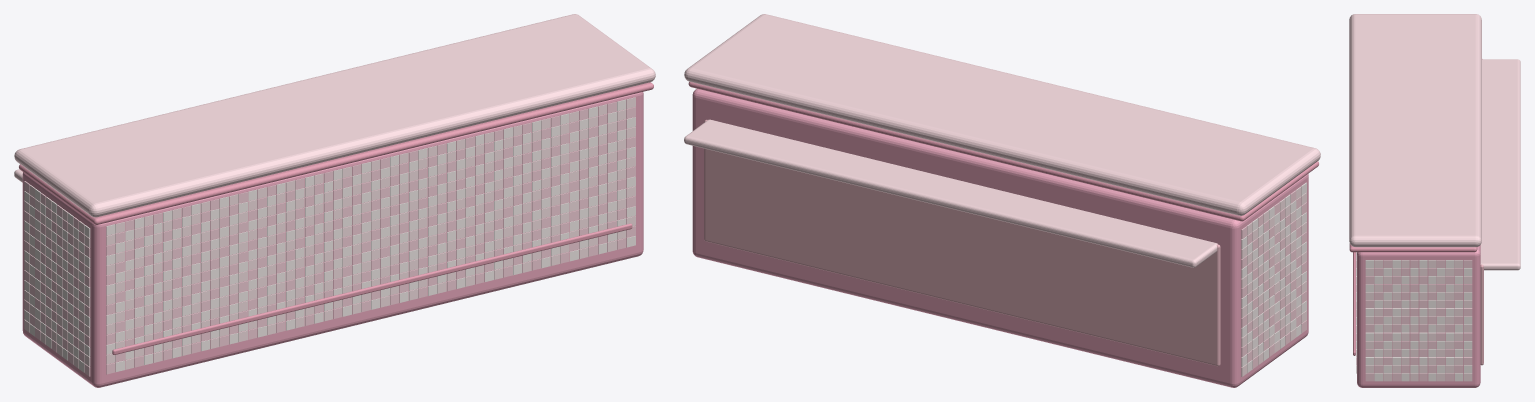
The model's file is bar_counter.glb.
The picture shows the model from 3 angles, left to right: view 1: azimuth 30°, elevation 25°; view 2: azimuth 150°, elevation 25°; view 3: azimuth 270°, elevation 25°; orthographic projection. The views are drawn at different scales.
Parts seen in each view (by area): view 1: PinkCounter_FrontTiles, PinkCounter_CounterTop, PinkCounter_Body, PinkCounter_LeftTiles, PinkCounter_TopEdge, PinkCounter_FrontStrip; view 2: PinkCounter_CounterTop, PinkCounter_RearInset, PinkCounter_Body, PinkCounter_RearWorkShelf, PinkCounter_LeftTiles, PinkCounter_TopEdge; view 3: PinkCounter_CounterTop, PinkCounter_RightTiles, PinkCounter_RearWorkShelf, PinkCounter_Body, PinkCounter_TopEdge, PinkCounter_RearInset, PinkCounter_FrontStrip.
Boxes of the visible parts, box(x1,y1,x2,y2) form: PinkCounter_FrontTiles: box(106, 97, 635, 374); PinkCounter_CounterTop: box(14, 14, 655, 217); PinkCounter_Body: box(22, 92, 643, 387); PinkCounter_LeftTiles: box(24, 181, 90, 376); PinkCounter_TopEdge: box(19, 82, 653, 224); PinkCounter_FrontStrip: box(112, 223, 632, 354); PinkCounter_CounterTop: box(684, 14, 1320, 215); PinkCounter_RearInset: box(704, 119, 1220, 366); PinkCounter_Body: box(692, 88, 1308, 387); PinkCounter_RearWorkShelf: box(684, 119, 1217, 267); PinkCounter_LeftTiles: box(1241, 182, 1306, 376); PinkCounter_TopEdge: box(688, 82, 1318, 221); PinkCounter_CounterTop: box(1349, 14, 1481, 247); PinkCounter_RightTiles: box(1365, 260, 1472, 381); PinkCounter_RearWorkShelf: box(1480, 59, 1520, 270); PinkCounter_Body: box(1357, 245, 1480, 387); PinkCounter_TopEdge: box(1349, 243, 1477, 252); PinkCounter_RearInset: box(1480, 59, 1483, 365); PinkCounter_FrontStrip: box(1353, 252, 1355, 355).
Bounding box in the file's own units: 3.29 × 1.05 × 1.05.
